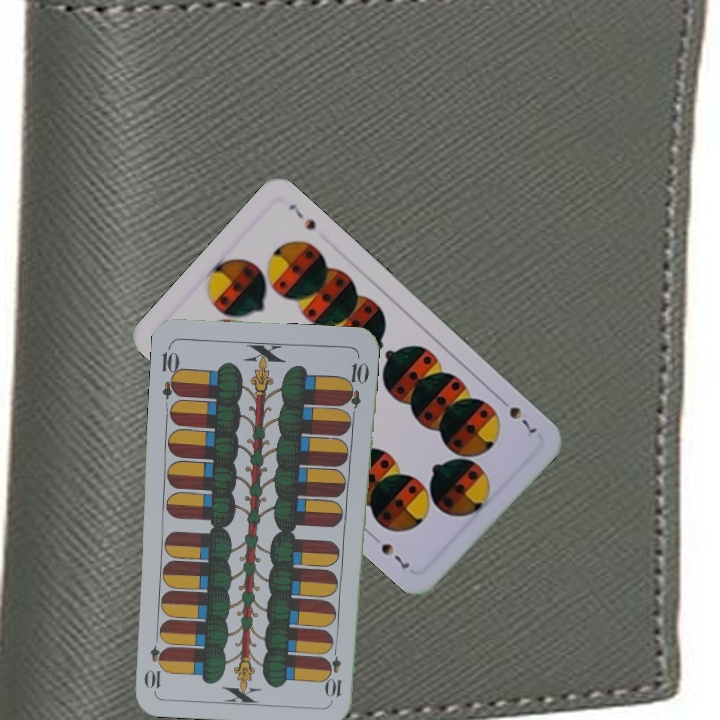E10: (158, 342, 184, 401), (325, 641, 344, 700)
S7: (494, 393, 540, 437)
